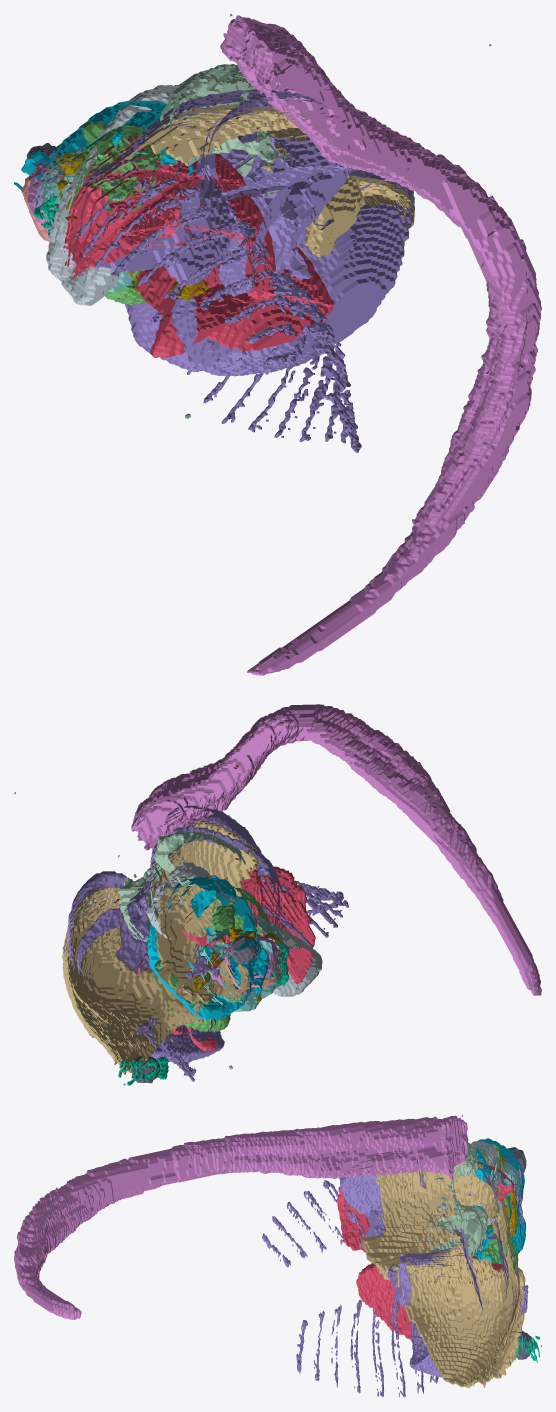
The picture shows the model from 3 angles, top to bottom: view 1: azimuth 30°, elevation 25°; view 2: azimuth 150°, elevation 25°; view 3: azimuth 270°, elevation 25°; orthographic projection. The views are drawn at different scales.
Parts seen in each view (by area): view 1: EMAPA17577, EMAPA16846, EMAPA16728, EMAPA18010, EMAPA17701, EMAPA17185, EMAPA16688, EMAPA17373, EMAPA16974, EMAPA17331, EMAPA17021, EMAPA17503; view 2: EMAPA17577, EMAPA17701, EMAPA16846, EMAPA16728, EMAPA16974, EMAPA18010, EMAPA16688, EMAPA17185, EMAPA17021, EMAPA17331, EMAPA17373, EMAPA19143 (+5 smaller); view 3: EMAPA17577, EMAPA17701, EMAPA16846, EMAPA18010, EMAPA16728, EMAPA16688, EMAPA16974, EMAPA17185, EMAPA17373, EMAPA17021, EMAPA17838, EMAPA17503.
Part boxes in pixels (x1=…): EMAPA17577: x1=220, y1=14, x2=541, y2=675; EMAPA16846: x1=82, y1=88, x2=414, y2=376; EMAPA16728: x1=63, y1=133, x2=334, y2=357; EMAPA18010: x1=74, y1=176, x2=361, y2=452; EMAPA17701: x1=104, y1=104, x2=414, y2=256; EMAPA17185: x1=46, y1=85, x2=199, y2=305; EMAPA16688: x1=159, y1=44, x2=491, y2=418; EMAPA17373: x1=71, y1=125, x2=163, y2=304; EMAPA16974: x1=36, y1=100, x2=182, y2=225; EMAPA17331: x1=40, y1=147, x2=139, y2=292; EMAPA17021: x1=14, y1=108, x2=193, y2=194; EMAPA17503: x1=56, y1=151, x2=209, y2=300; EMAPA17577: x1=131, y1=704, x2=541, y2=995; EMAPA17701: x1=62, y1=818, x2=268, y2=1074; EMAPA16846: x1=67, y1=805, x2=285, y2=1061; EMAPA16728: x1=138, y1=866, x2=315, y2=1051; EMAPA16974: x1=147, y1=877, x2=269, y2=1019; EMAPA18010: x1=136, y1=879, x2=348, y2=1081; EMAPA16688: x1=14, y1=792, x2=245, y2=1069; EMAPA17185: x1=146, y1=862, x2=322, y2=996; EMAPA17021: x1=178, y1=875, x2=268, y2=1002; EMAPA17331: x1=200, y1=906, x2=286, y2=1011; EMAPA17373: x1=152, y1=886, x2=271, y2=1031; EMAPA19143: x1=118, y1=942, x2=288, y2=1085; EMAPA17577: x1=14, y1=1114, x2=468, y2=1319; EMAPA17701: x1=361, y1=1158, x2=528, y2=1388; EMAPA16846: x1=339, y1=1150, x2=519, y2=1377; EMAPA18010: x1=262, y1=1180, x2=528, y2=1397; EMAPA16728: x1=337, y1=1161, x2=514, y2=1342; EMAPA16688: x1=406, y1=1142, x2=487, y2=1258; EMAPA16974: x1=466, y1=1138, x2=525, y2=1263; EMAPA17185: x1=467, y1=1141, x2=499, y2=1225; EMAPA17373: x1=468, y1=1142, x2=518, y2=1272; EMAPA17021: x1=469, y1=1143, x2=518, y2=1244; EMAPA17838: x1=502, y1=1147, x2=532, y2=1359; EMAPA17503: x1=486, y1=1156, x2=518, y2=1256.
Size of the model in its own units: 8742 by 7019 by 11640.
